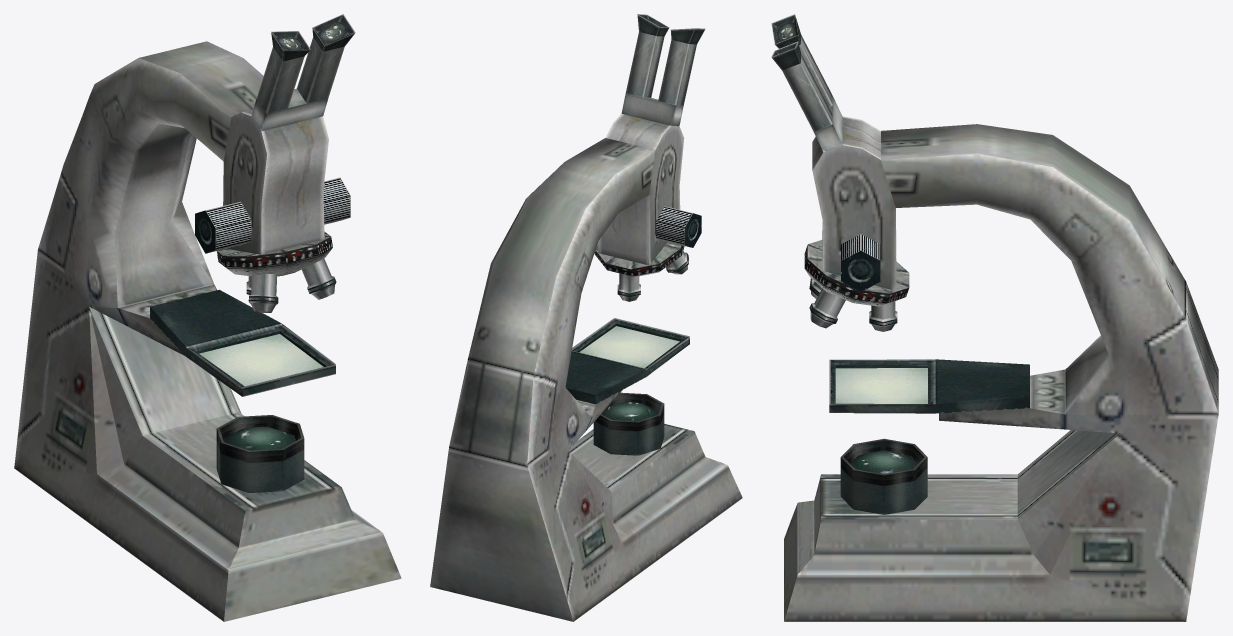
Rendered from microscope.fbx.
3 views of the same model, side by side, from view 1: azimuth 30°, elevation 25°; view 2: azimuth 150°, elevation 25°; view 3: azimuth 270°, elevation 25° (orthographic). The views are drawn at different scales.
Parts seen in each view (by area): view 1: mesh_0, mesh_1; view 2: mesh_0, mesh_1; view 3: mesh_0, mesh_1.
Boxes of the visible parts, left/top/right/bottom form: mesh_0: left=14, top=14, right=401, bottom=621; mesh_1: left=199, top=334, right=323, bottom=386; mesh_0: left=430, top=14, right=742, bottom=621; mesh_1: left=579, top=326, right=679, bottom=368; mesh_0: left=771, top=14, right=1218, bottom=621; mesh_1: left=835, top=368, right=927, bottom=403.
Size of the model in its own units: 19.74 by 60.85 by 44.89.
2 materials, 2 textured.
